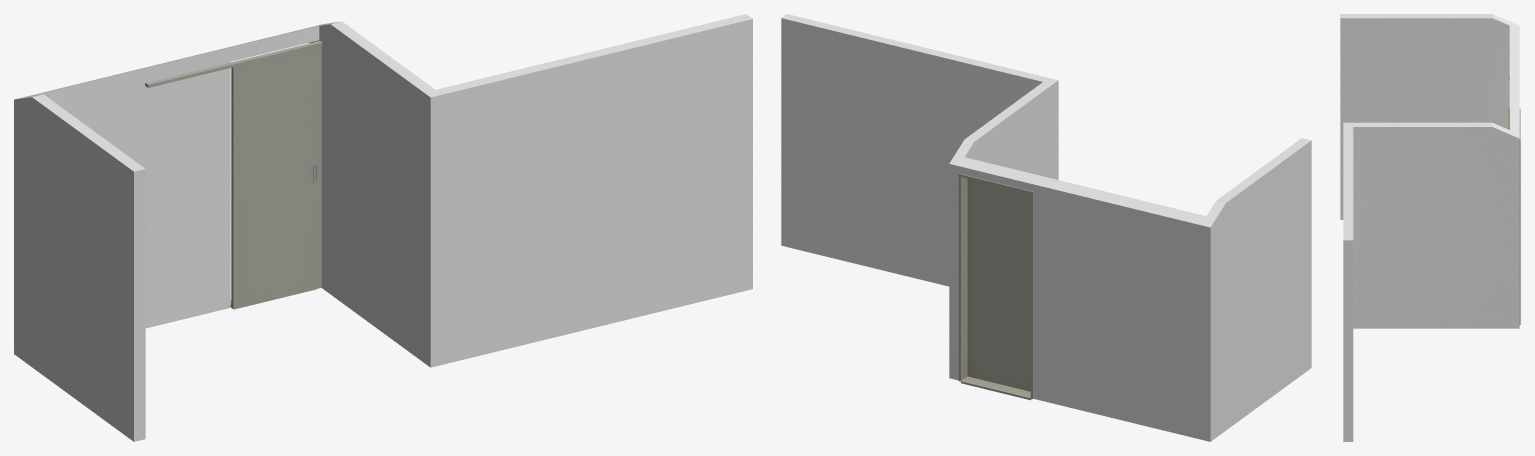
3 renders of one model, left to right at view 1: azimuth 30°, elevation 25°; view 2: azimuth 150°, elevation 25°; view 3: azimuth 270°, elevation 25°, orthographic. The views are drawn at different scales.
Visible parts, largest first — view 1: Op2; view 2: Op2; view 3: Op2.
Part boxes in pixels (x1,y1,x2,y2): Op2: (14, 14, 752, 441); Op2: (781, 14, 1311, 441); Op2: (1340, 14, 1520, 441).
Size of the model in its own units: 5615 by 2352 by 1890.
Materials: 2 (2 with a texture image).
